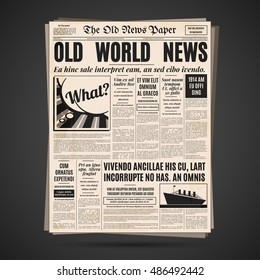news_paper: (32, 15, 229, 248)
